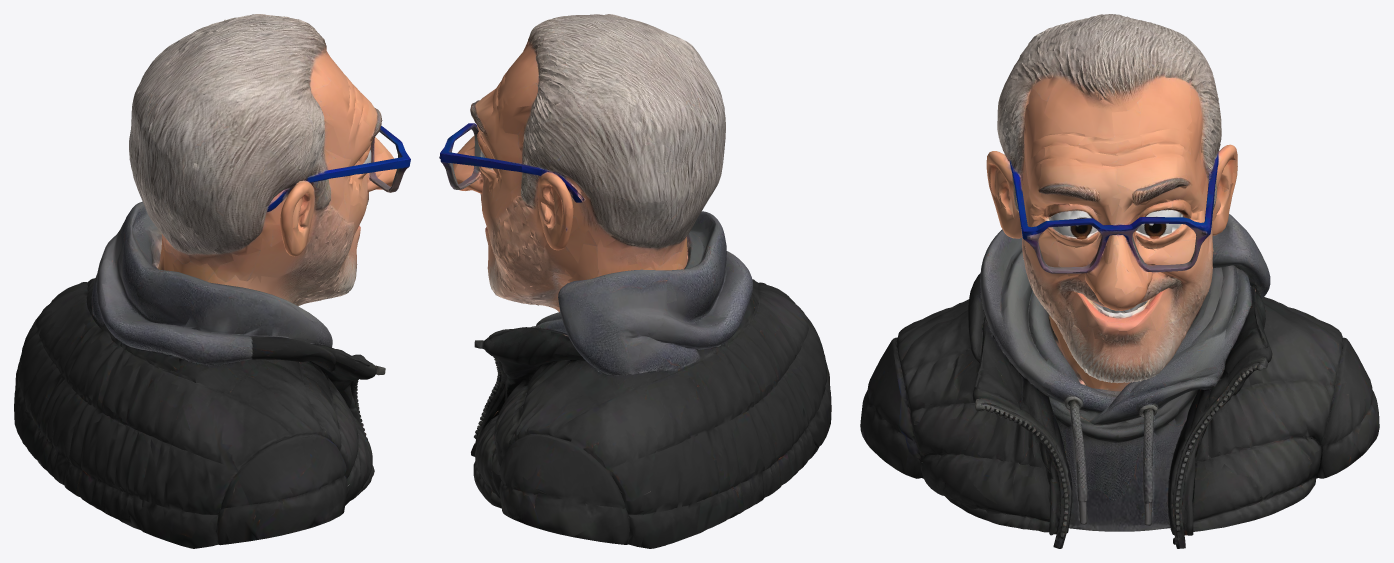
The model's file is avatar.glb.
3 renders of one model, left to right at view 1: azimuth 30°, elevation 25°; view 2: azimuth 150°, elevation 25°; view 3: azimuth 270°, elevation 25°, orthographic. The views are drawn at different scales.
Parts seen in each view (by area): view 1: Mesh_0; view 2: Mesh_0; view 3: Mesh_0.
Boxes of the visible parts, x1,y1,x2,y2 form: Mesh_0: [14, 14, 410, 548]; Mesh_0: [439, 14, 831, 548]; Mesh_0: [860, 14, 1379, 548].
Bounding box in the file's own units: 1.49 × 1.9 × 1.9.
Materials: 1 (1 with a texture image).
